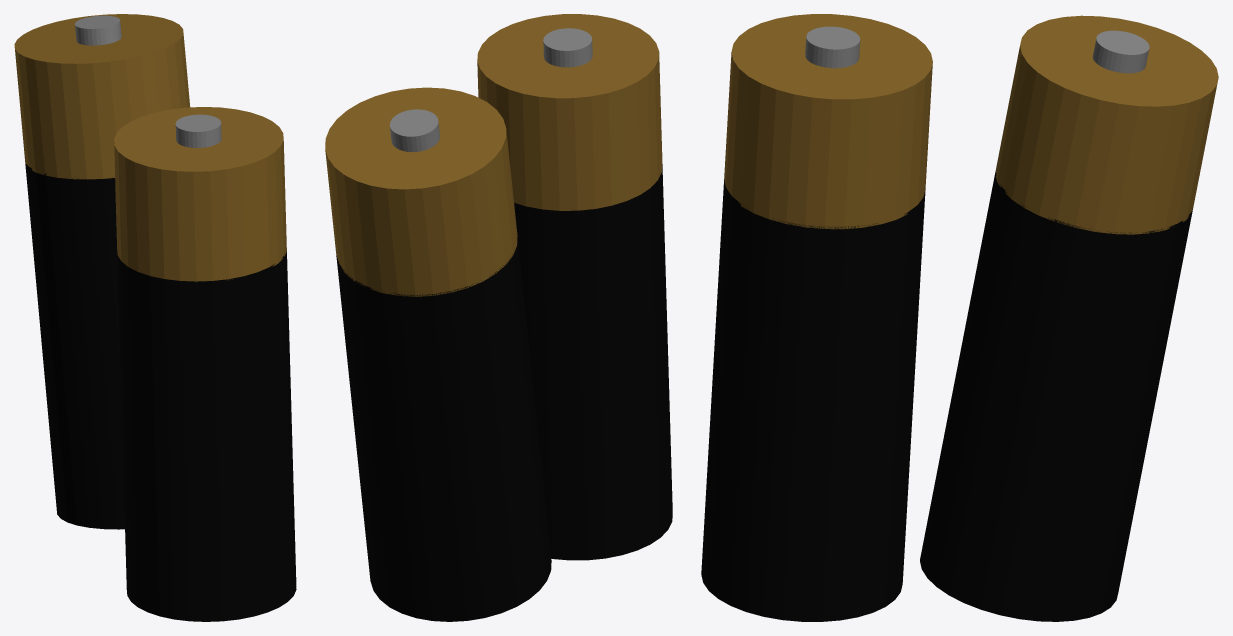
Rendered from Batteries.fbx.
3 views of the same model, side by side, from view 1: azimuth 30°, elevation 25°; view 2: azimuth 150°, elevation 25°; view 3: azimuth 270°, elevation 25° (orthographic). The views are drawn at different scales.
Visible parts, largest first — view 1: Cylinder, Cylinder.003; view 2: Cylinder.003, Cylinder; view 3: Cylinder, Cylinder.003.
Boxes of the visible parts, <box> form: Cylinder: <box>114,107,296,621</box>; Cylinder.003: <box>14,14,190,529</box>; Cylinder.003: <box>325,87,551,621</box>; Cylinder: <box>477,14,672,560</box>; Cylinder: <box>701,14,932,621</box>; Cylinder.003: <box>920,15,1218,621</box>.
Bounding box in the file's own units: 44.62 × 119 × 100.
